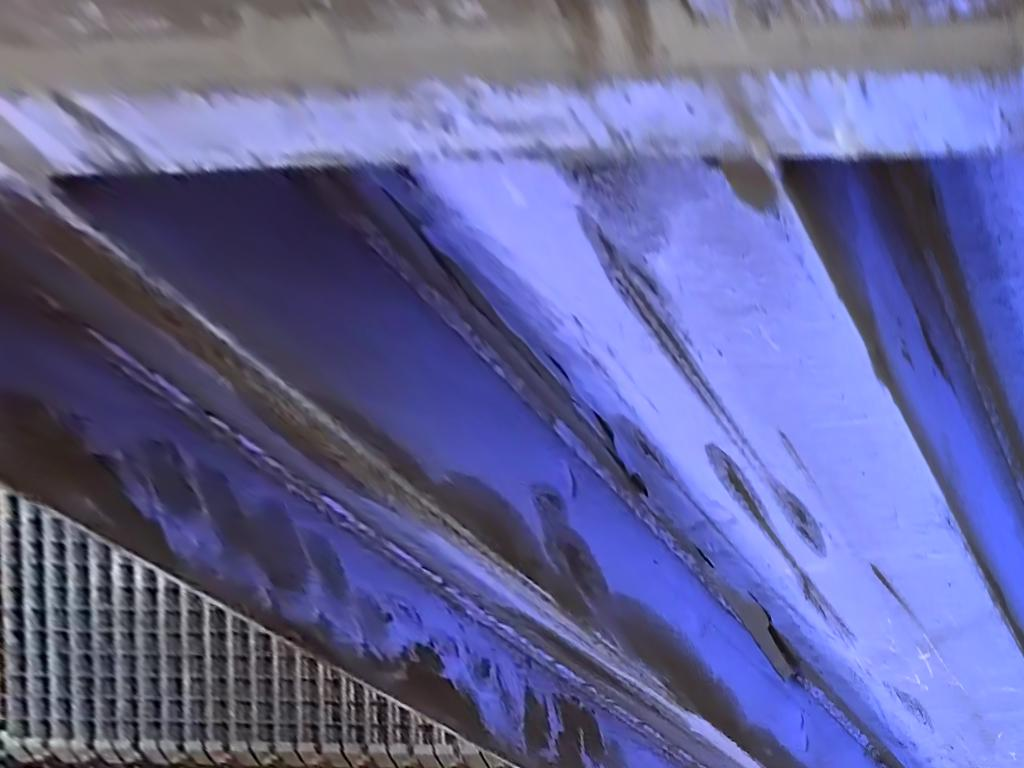cae: (4, 1, 1022, 768)
